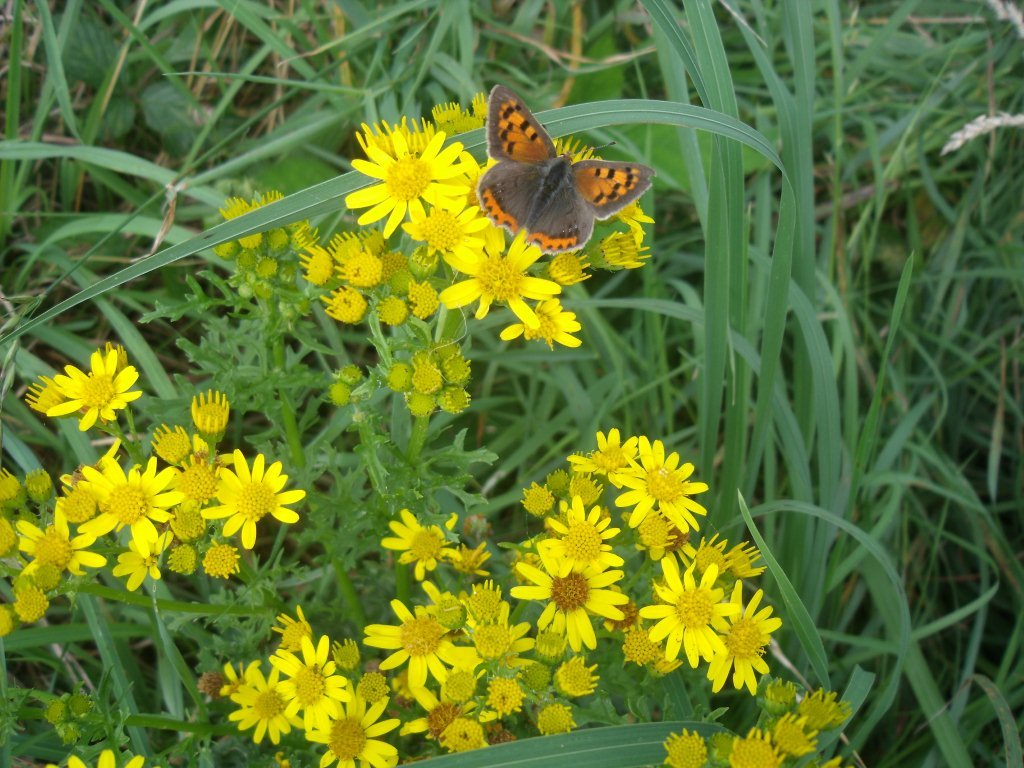Butterfly: (463, 81, 676, 258)
